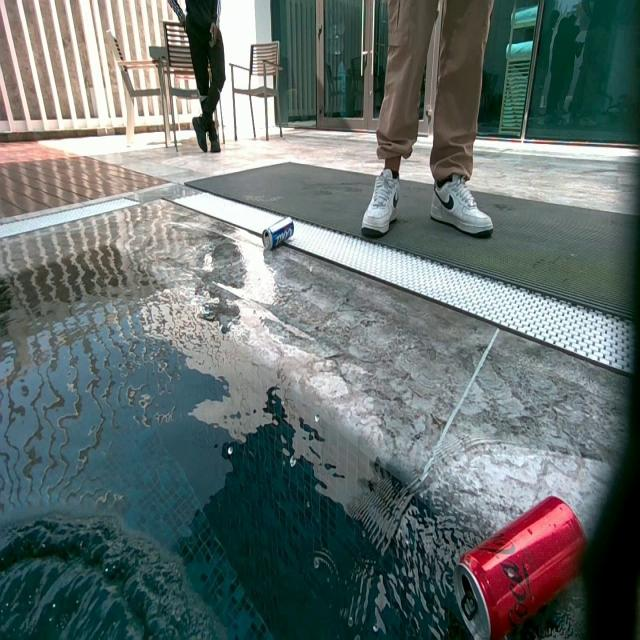Cans: (451, 495, 592, 638), (260, 217, 296, 252)
